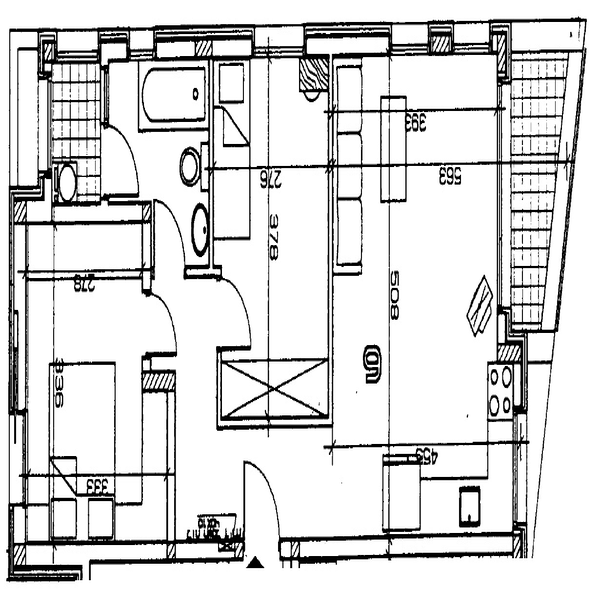door: (239, 460, 287, 564), (213, 277, 267, 358), (98, 125, 153, 199), (142, 290, 187, 363), (151, 201, 191, 282)
